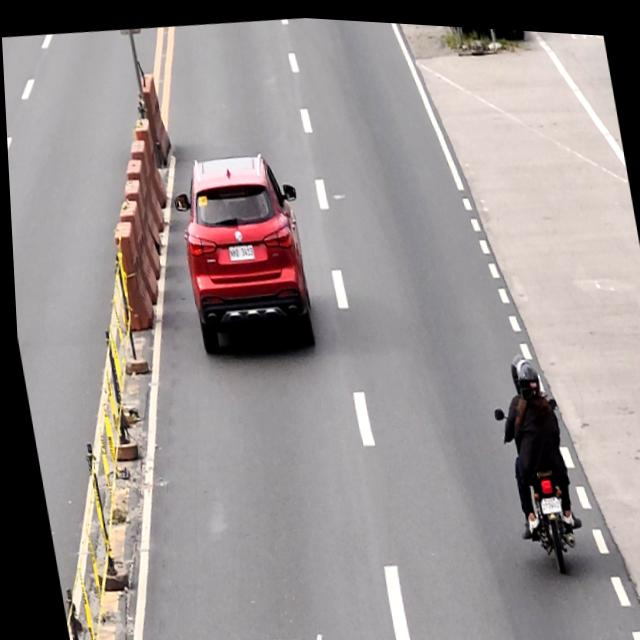Car: (164, 143, 319, 361)
License-Plate: (225, 238, 253, 259), (534, 488, 557, 509)
Motorcycle: (488, 387, 581, 571)
